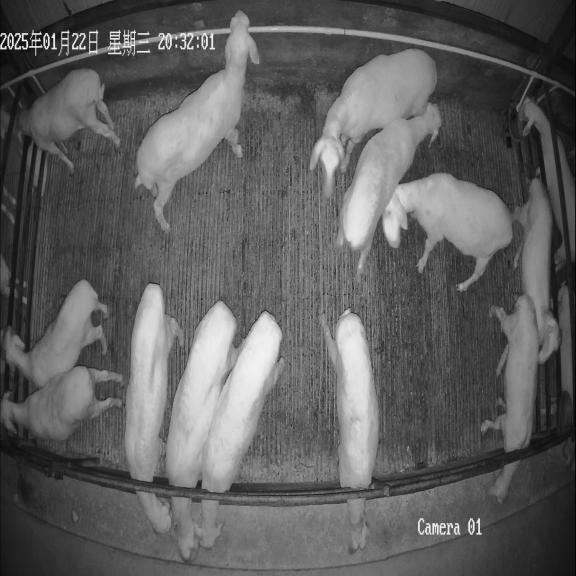drinking: (14, 69, 120, 173)
eating: (194, 311, 285, 548), (165, 301, 238, 561), (125, 283, 184, 533), (319, 308, 379, 553), (480, 294, 539, 503)
stand: (135, 11, 259, 232), (310, 49, 437, 197), (338, 105, 443, 279), (383, 173, 513, 291), (2, 280, 108, 388), (513, 170, 561, 364), (2, 366, 123, 441)
